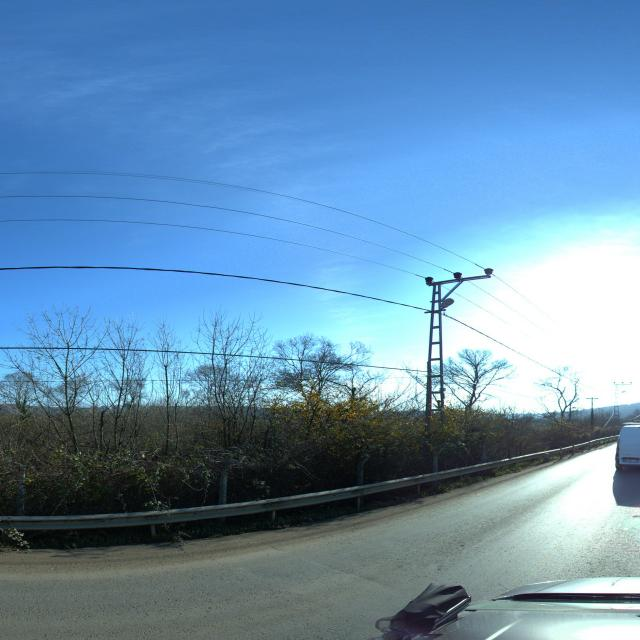Utility Pole Information Plate: (441, 408, 445, 411)
